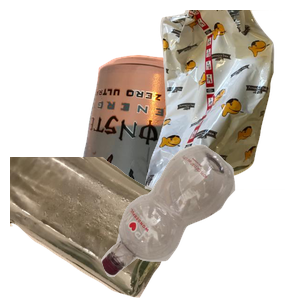glass: (10, 157, 190, 300)
metal: (73, 52, 263, 232)
plastic: (99, 142, 300, 300)
trash: (127, 10, 300, 190)
